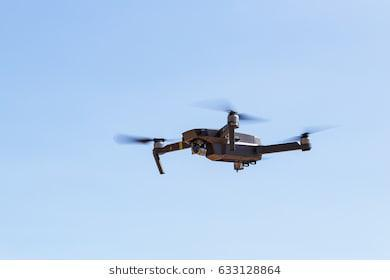drone: (111, 83, 342, 181)
